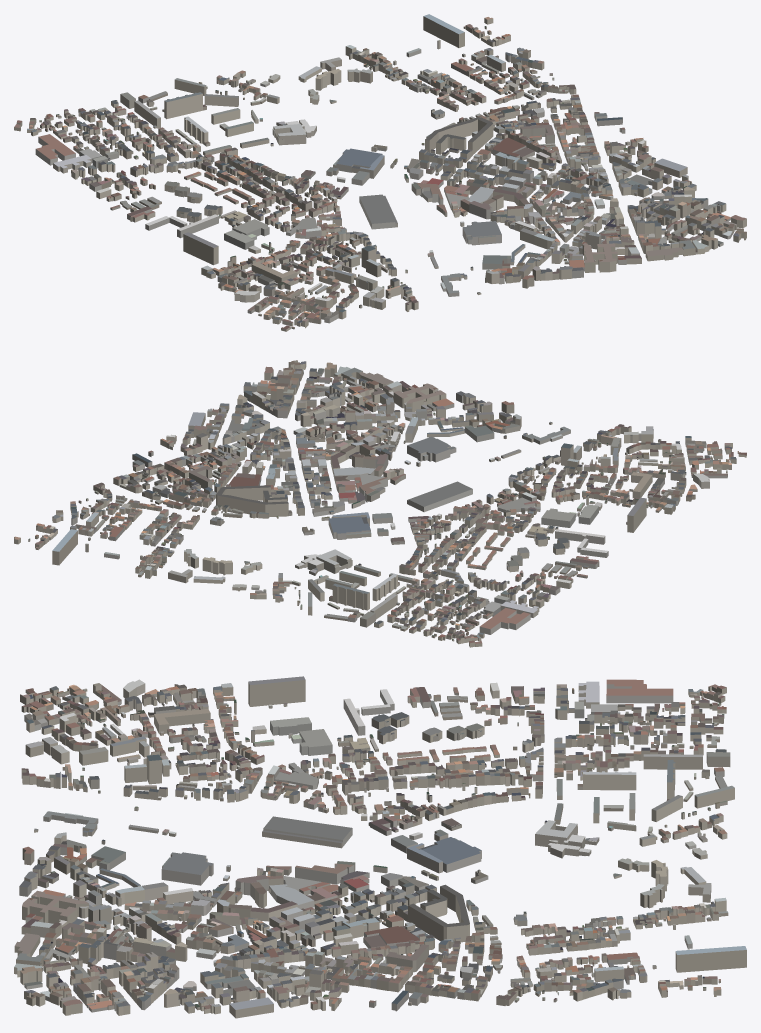
3 views of the same model, one above another, from view 1: azimuth 30°, elevation 25°; view 2: azimuth 150°, elevation 25°; view 3: azimuth 270°, elevation 25° (orthographic). The views are drawn at different scales.
Parts seen in each view (by area): view 1: tuile; view 2: tuile; view 3: tuile.
Boxes of the visible parts, x1,y1,x2,y2 form: tuile: (14,14,746,331); tuile: (14,360,746,647); tuile: (14,676,746,1018).
Bounding box in the file's own units: 1034 × 76.45 × 1047.
